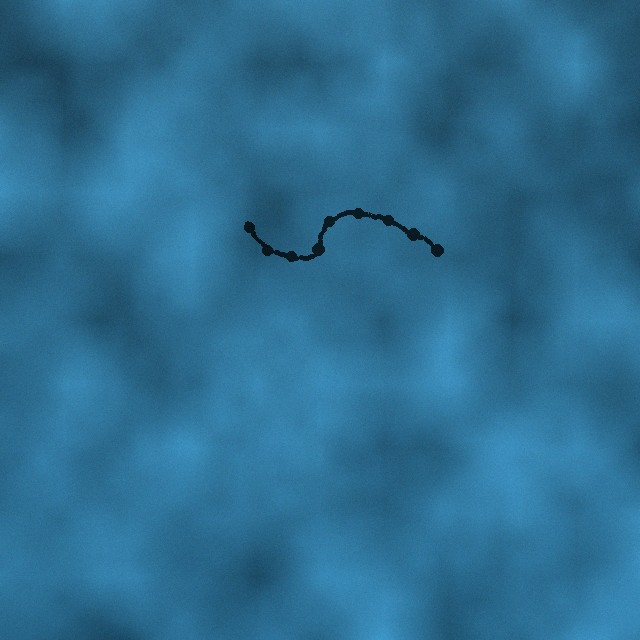crack: (240, 205, 444, 265)
